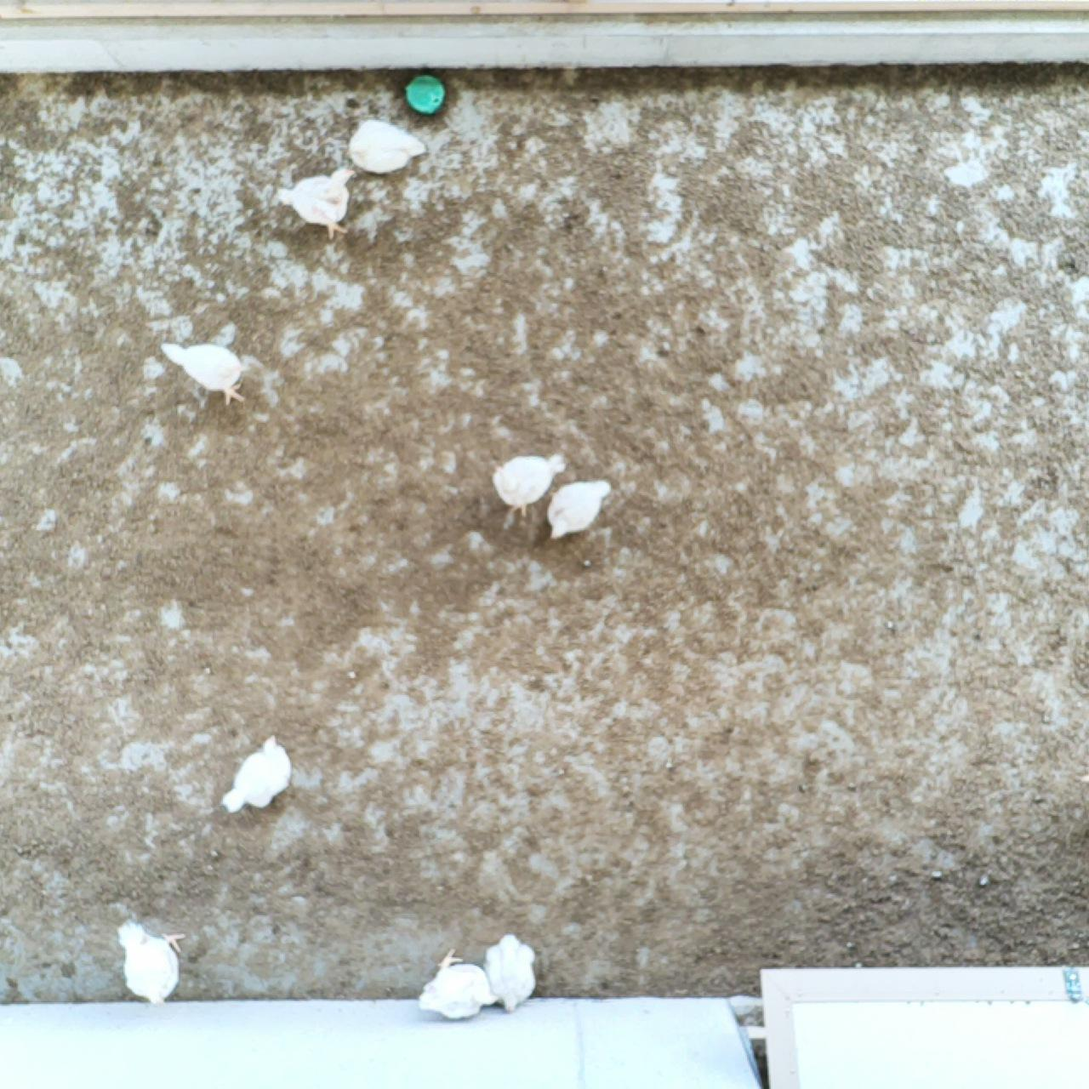chicken: (273, 161, 358, 247), (217, 732, 300, 818), (156, 336, 255, 408), (114, 913, 189, 1008), (414, 945, 502, 1024), (486, 451, 574, 521), (343, 113, 430, 175), (481, 928, 539, 1018), (543, 476, 616, 542)
